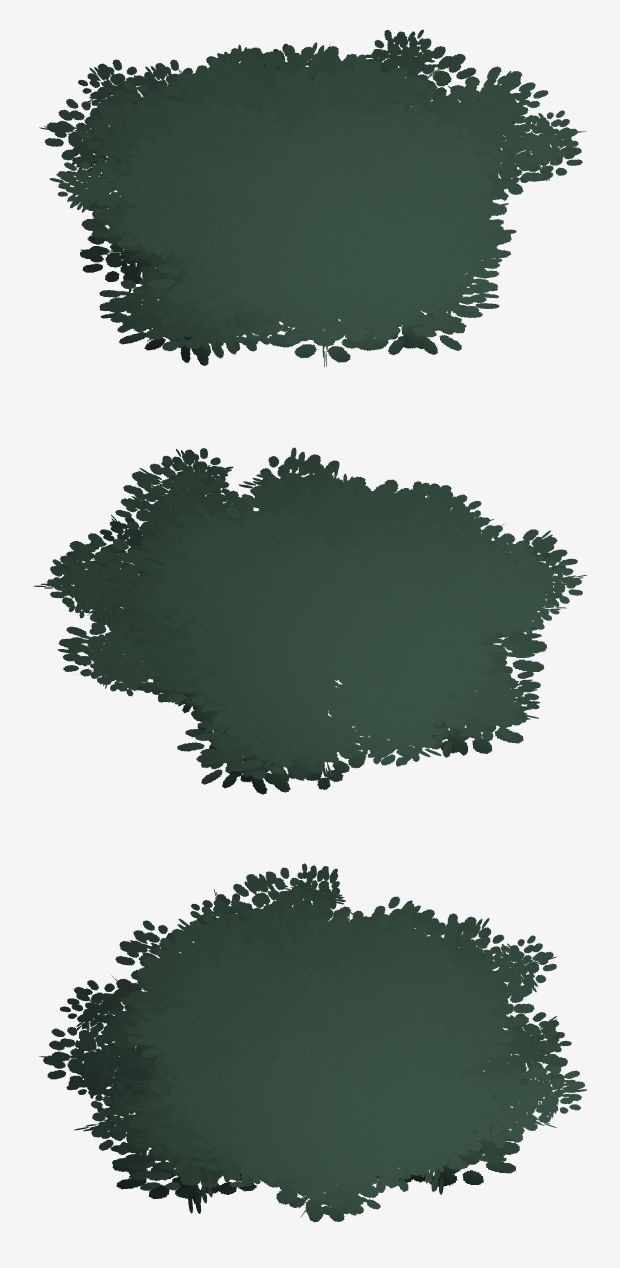
The model's file is berry-bush-low-thicket-empty.glb.
3 renders of one model, top to bottom at view 1: azimuth 30°, elevation 25°; view 2: azimuth 150°, elevation 25°; view 3: azimuth 270°, elevation 25°, orthographic. The views are drawn at different scales.
Parts seen in each view (by area): view 1: berry-bush-low-thicket-empty runtime mesh; view 2: berry-bush-low-thicket-empty runtime mesh; view 3: berry-bush-low-thicket-empty runtime mesh.
Boxes of the visible parts, x1,y1,x2,y2 form: berry-bush-low-thicket-empty runtime mesh: [39, 29, 586, 366]; berry-bush-low-thicket-empty runtime mesh: [33, 447, 586, 794]; berry-bush-low-thicket-empty runtime mesh: [39, 863, 586, 1222].
Size of the model in its own units: 1.58 by 0.819 by 1.5.
Materials: 1 (1 with a texture image).
